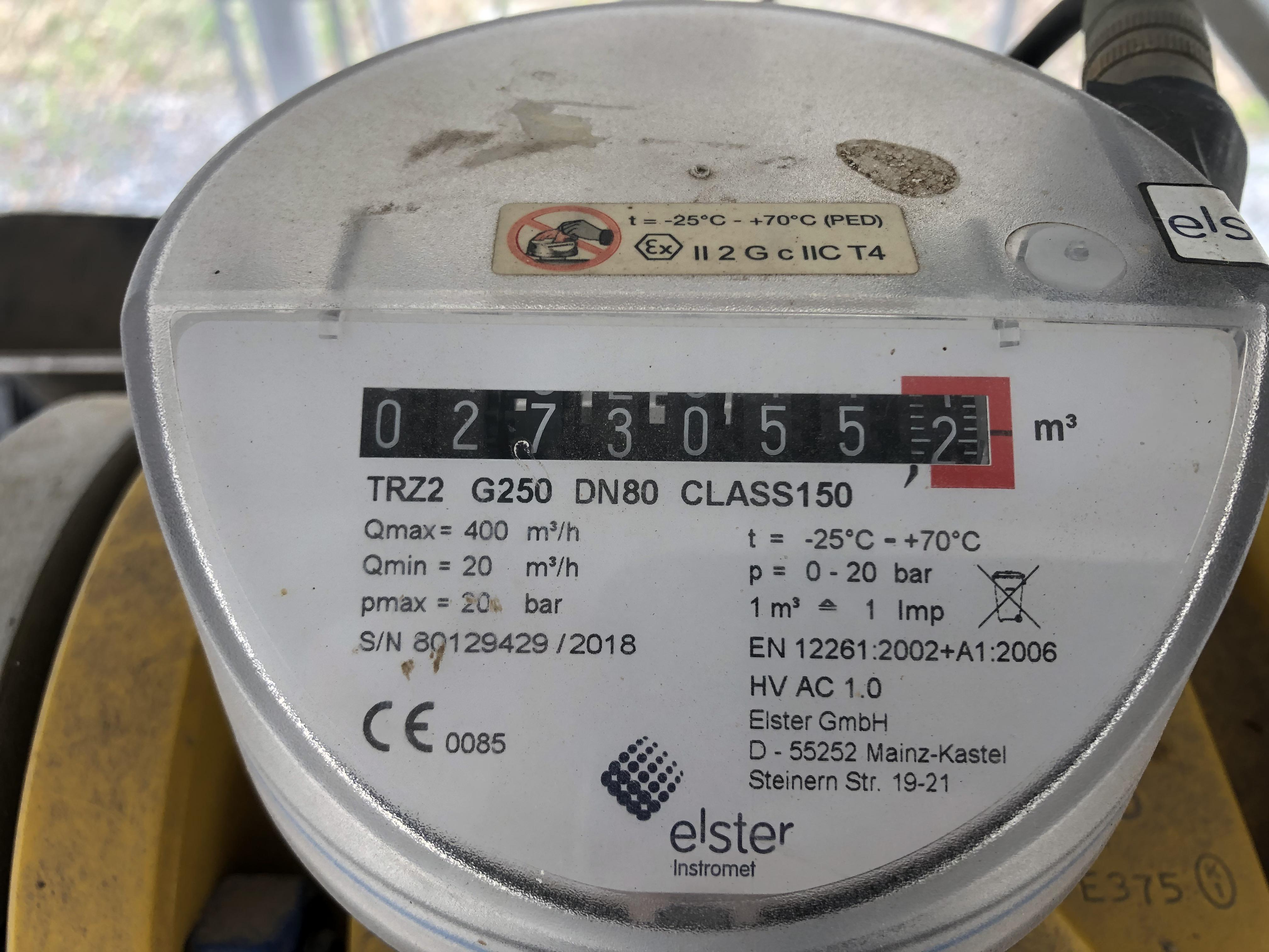analog_dial: (354, 345, 1027, 494)
